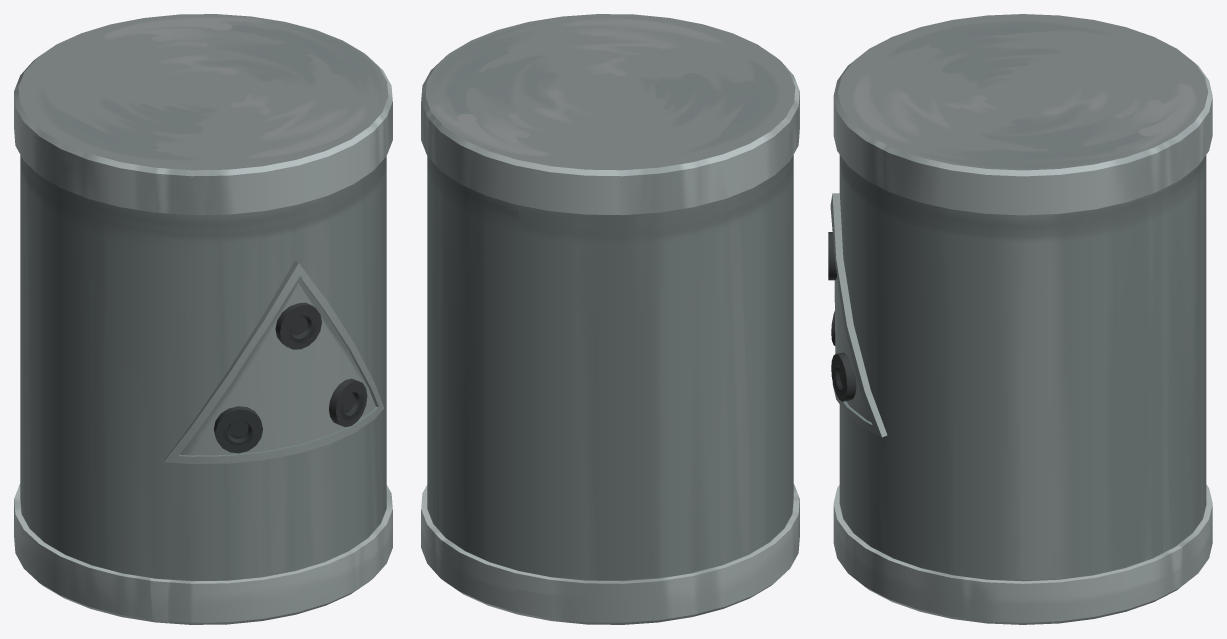
Rendered from BrainCan.fbx.
The picture shows the model from 3 angles, left to right: view 1: azimuth 30°, elevation 25°; view 2: azimuth 150°, elevation 25°; view 3: azimuth 270°, elevation 25°; orthographic projection.
Visible parts, largest first — view 1: brain_can; view 2: brain_can; view 3: brain_can.
Part boxes in pixels (x1,y1,x2,y2): brain_can: (14, 14, 392, 624); brain_can: (421, 14, 799, 624); brain_can: (828, 14, 1212, 624).
Bounding box in the file's own units: 0.2269 × 0.3 × 0.2301.
Materials: 2 (2 with a texture image).
